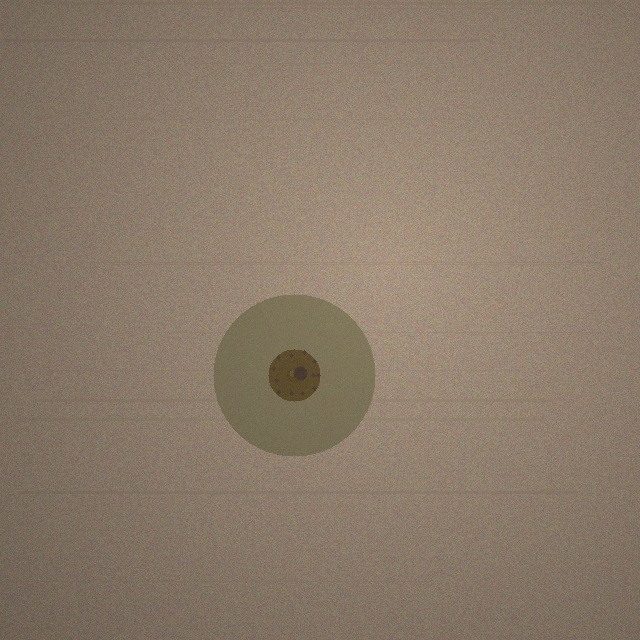cold_weld: (213, 294, 375, 456)
